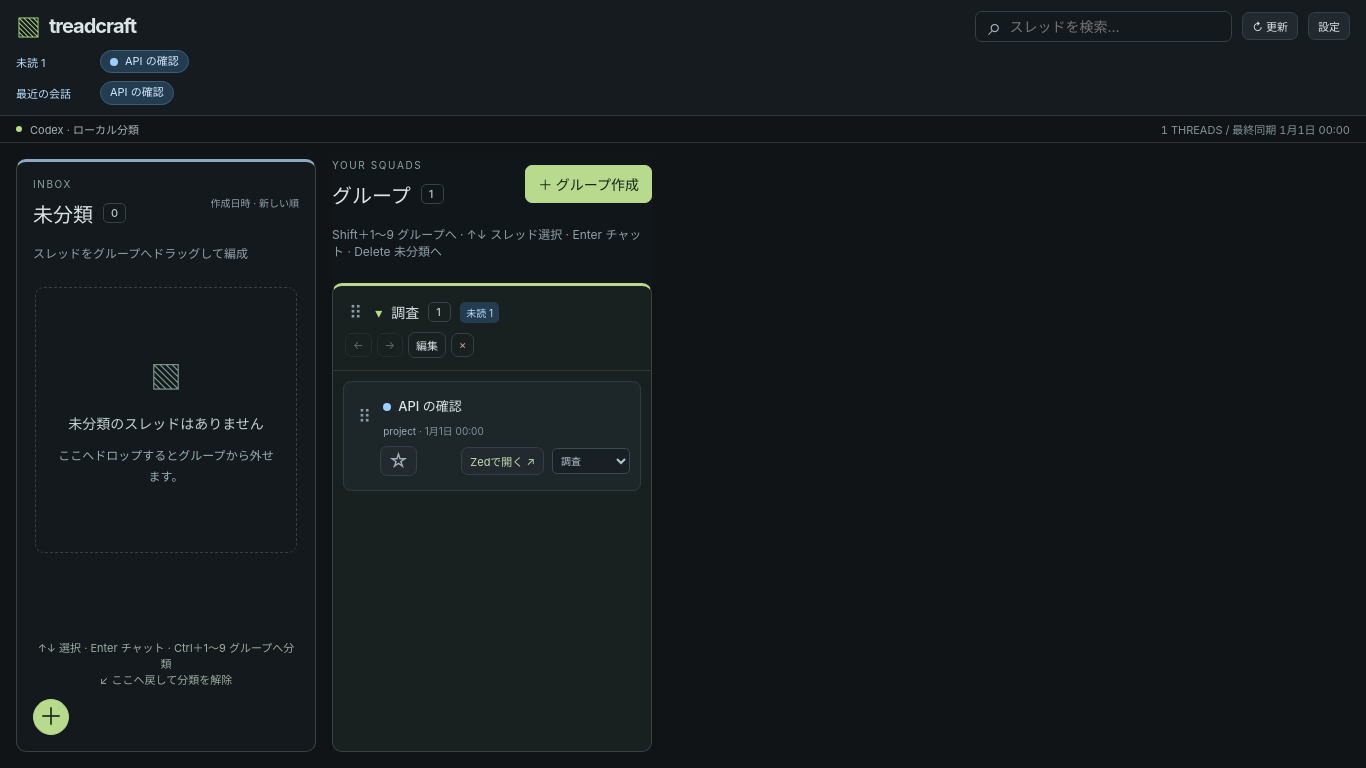
Test case: shows unread badges and clears them only after successful viewing
Expected: the text "未読 1" is shown 2 times, [16,56,46,70]; [460,302,499,323]
Expected: the element named "未読" is shown, [383,403,391,411]
Click the button with aria-label "API の確認 のチャットを表示": (507, 417) [383,396,630,438]
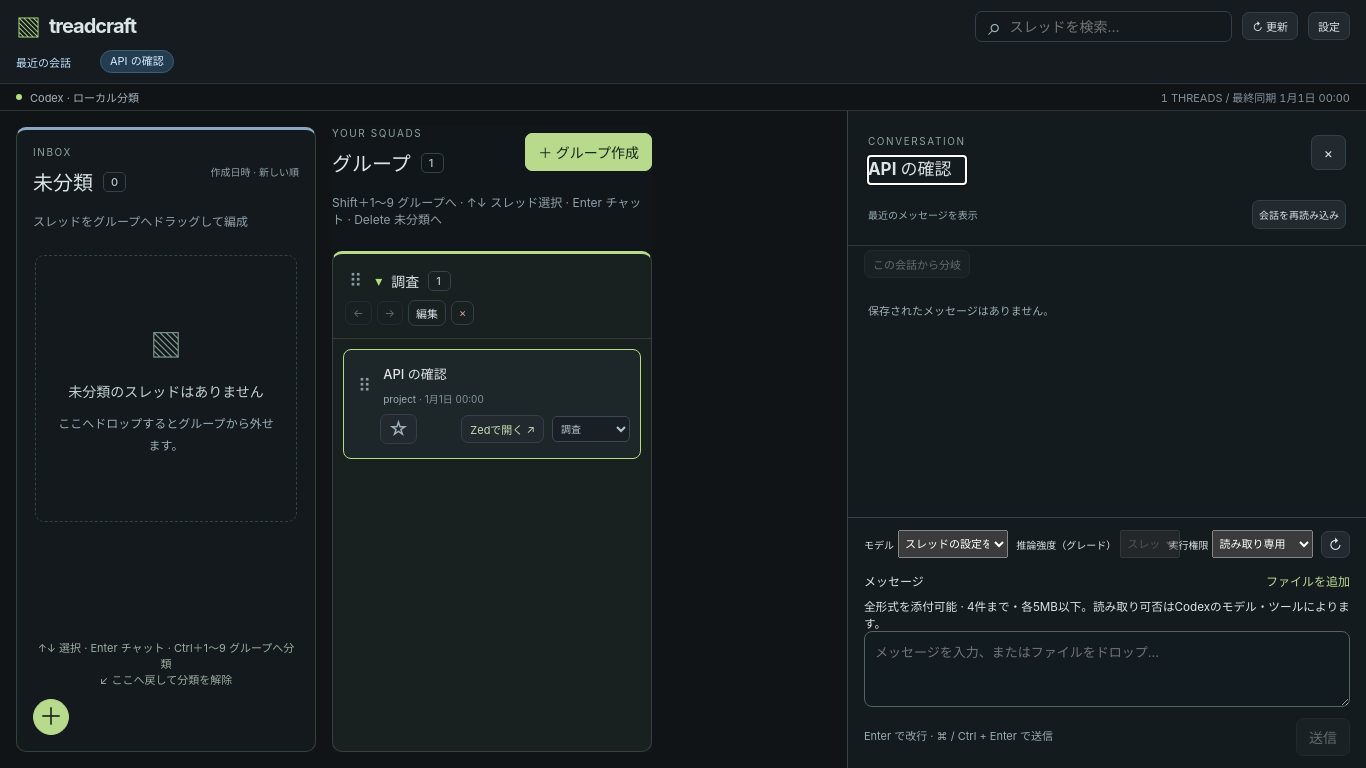
Result: the text "未読 1" is gone
Result: the text labelled "未読" is gone
